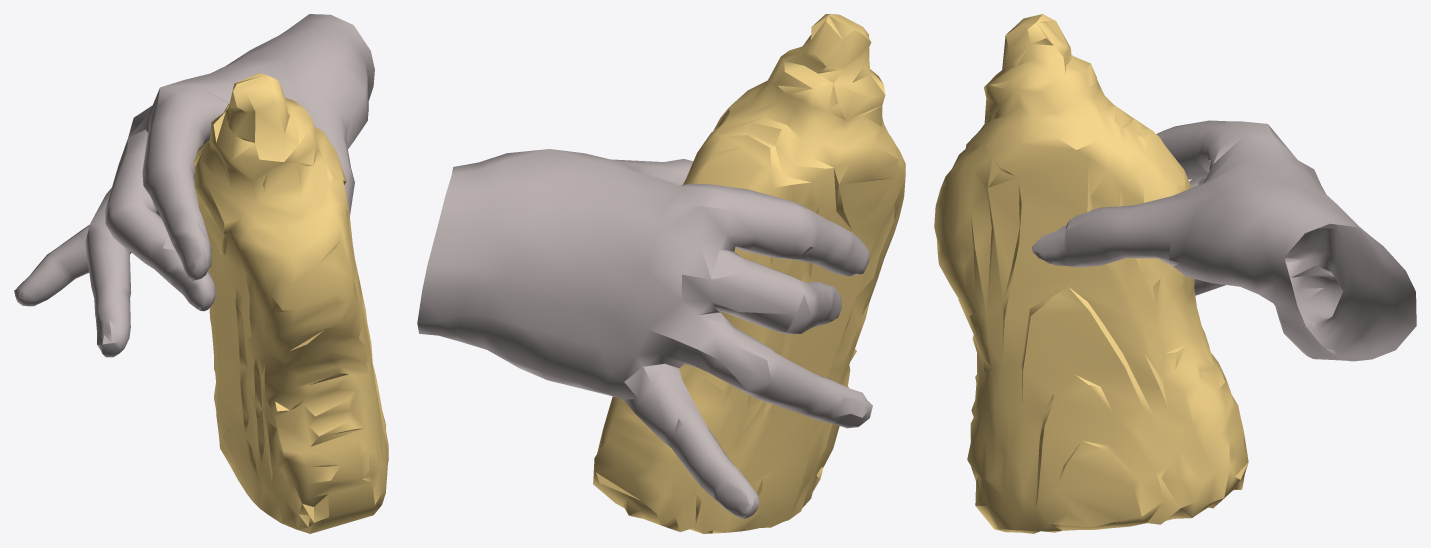
The model's file is mocap_tripod_frame.glb.
3 renders of one model, left to right at view 1: azimuth 30°, elevation 25°; view 2: azimuth 150°, elevation 25°; view 3: azimuth 270°, elevation 25°, orthographic. The views are drawn at different scales.
Parts seen in each view (by area): view 1: mesh0; view 2: mesh0; view 3: mesh0.
Boxes of the visible parts, x1,y1,x2,y2 form: mesh0: (14, 14, 388, 533); mesh0: (417, 14, 905, 533); mesh0: (934, 14, 1416, 533).
Bounding box in the file's own units: 0.1518 × 0.1979 × 0.1823.
